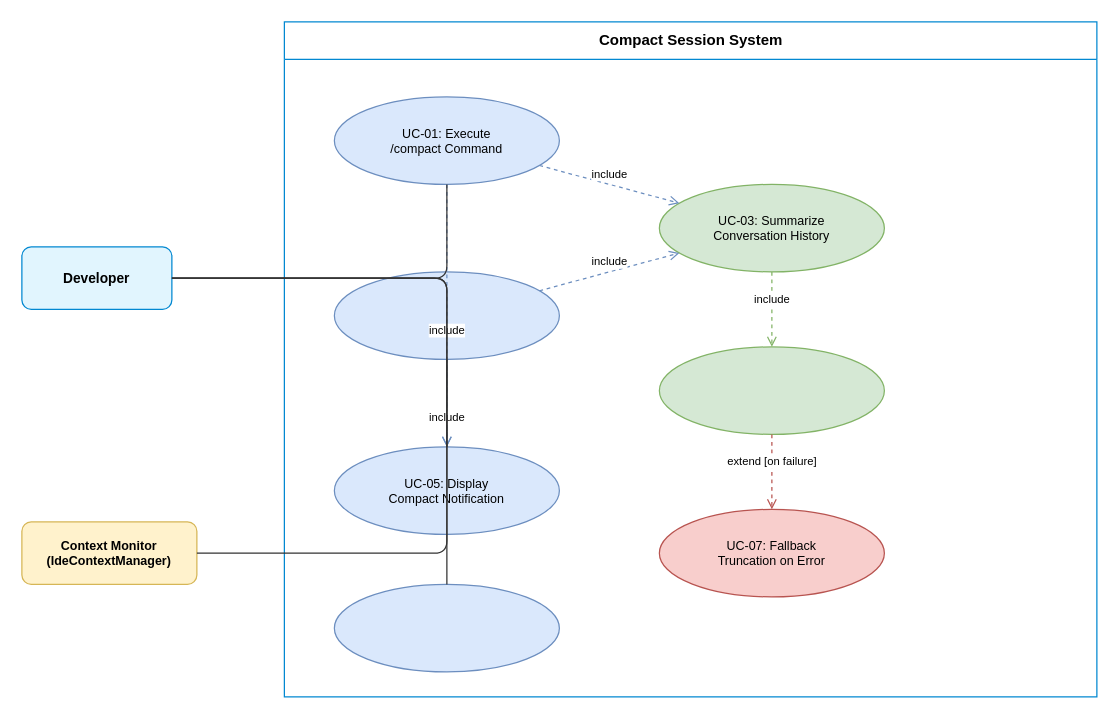
This 1119x719 diagram has some shape labels left out. Here are the shapes that lost their labels. From the top down, the box of each, then its label:
(333, 271, 559, 359): UC-02: Auto-Compact at ~95% Threshold
(658, 346, 884, 434): UC-04: Replace Message History
(333, 583, 559, 672): UC-06: Configure Auto-Compact Settings
